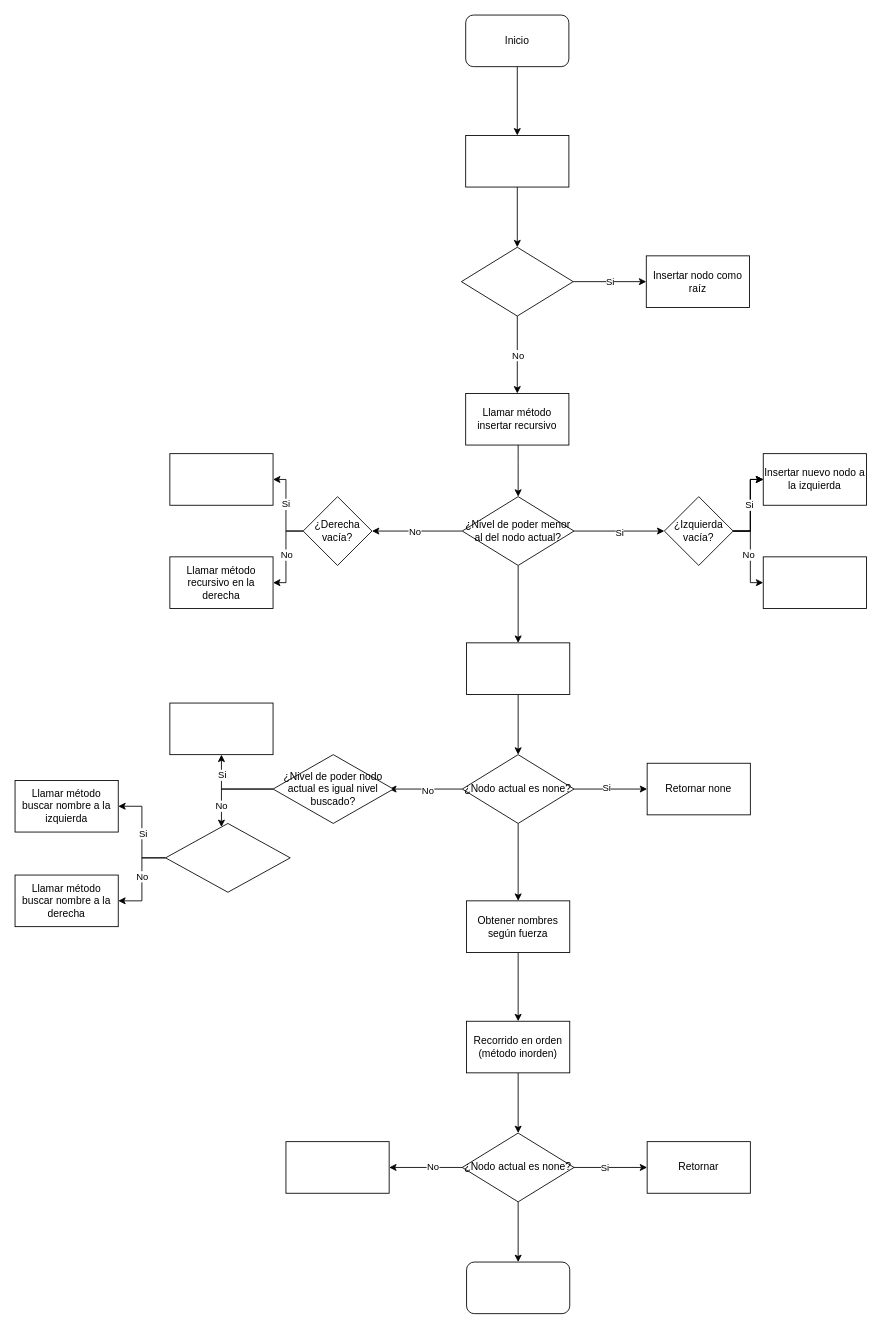
Image size: 882x1329. Some labels were removed from this diagram. The shapes that lost their labels are listed below. From the top down, each one's centre as x and y in pixels, then its label:
At point (517, 161): "Crear Personaje".
At point (517, 281): "¿Árbol vacío?".
At point (221, 479): "Insertar nuevo nodo a la derecha".
At point (814, 582): "Llamar método recursivo en la izquierda".
At point (518, 668): "Búsqueda de personaje (método buscar)".
At point (221, 728): "Devuelve personaje buscado".
At point (227, 857): "¿Nivel de poder nodo actual es menor nivel buscado?".
At point (337, 1167): "Llamar método inorden (agrega nombre a lista, llama método a la derecha)".
At point (518, 1287): "Fin".
